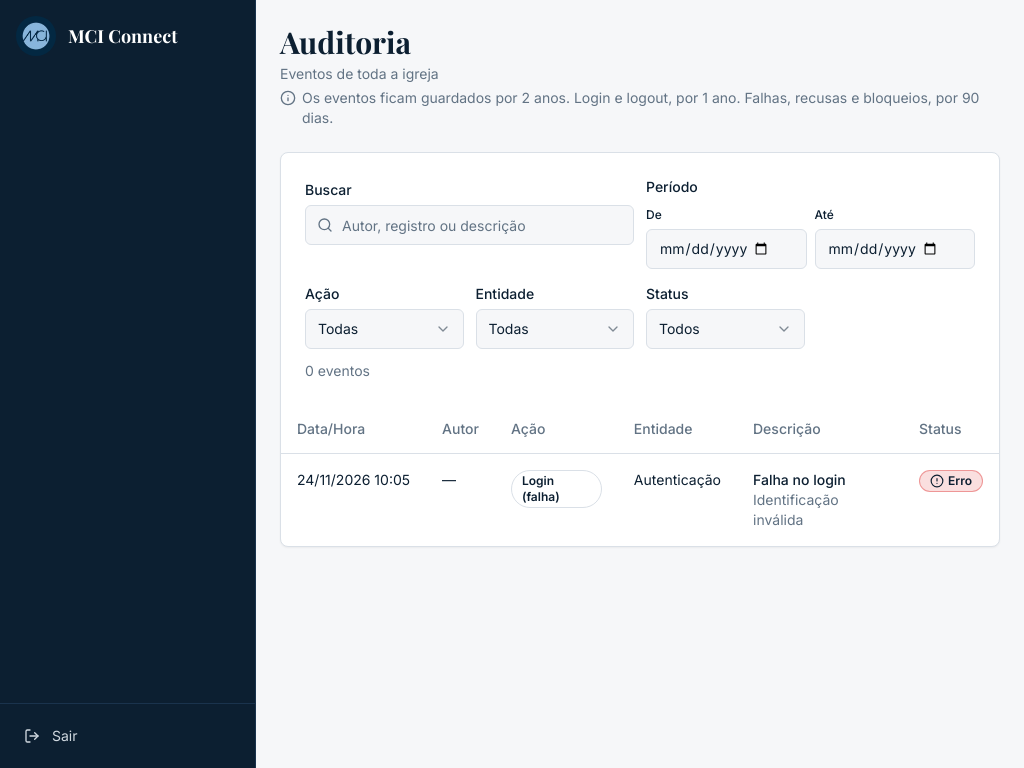
Test: UX-17: painel do evento de autenticação › identificação inválida: aparece só '***', sem Cadastro nem Tipo de identificação
The image size is (1024, 768).
Click the row that starts with "Login (falha)": (354, 479) [281,453,999,546]
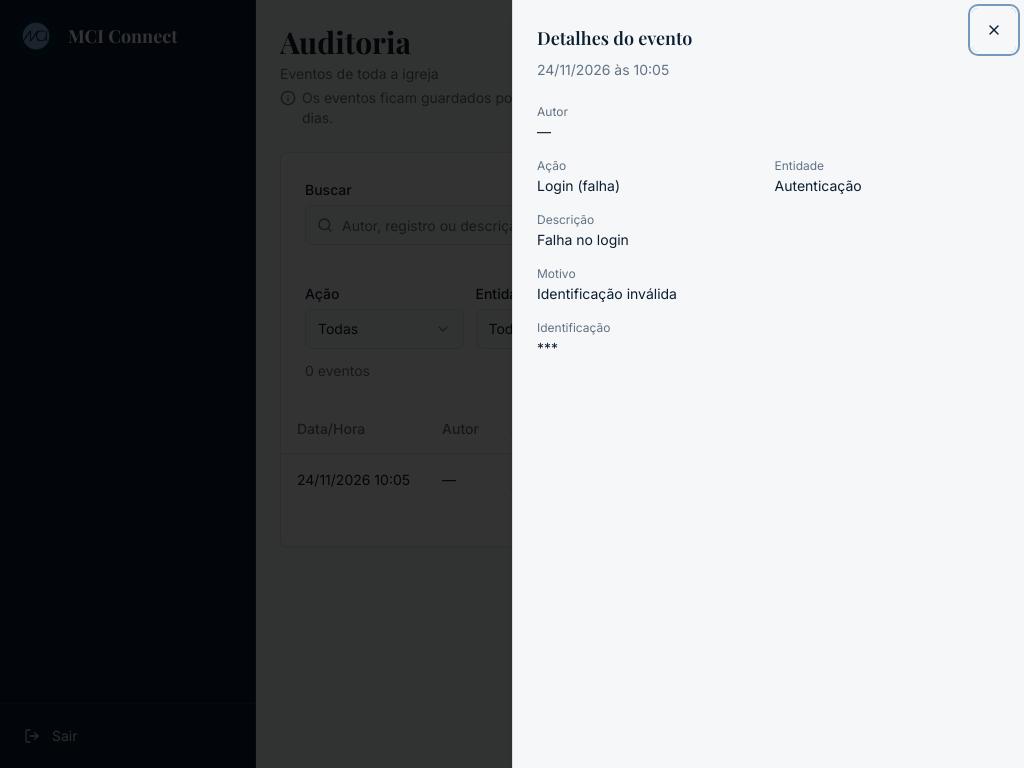
Expected: the text "Identificação" is shown, [537,320,610,335]
Expected: the text "***" is shown, [537,339,558,356]
Expected: the text "Identificação inválida" is shown, [537,285,677,302]
